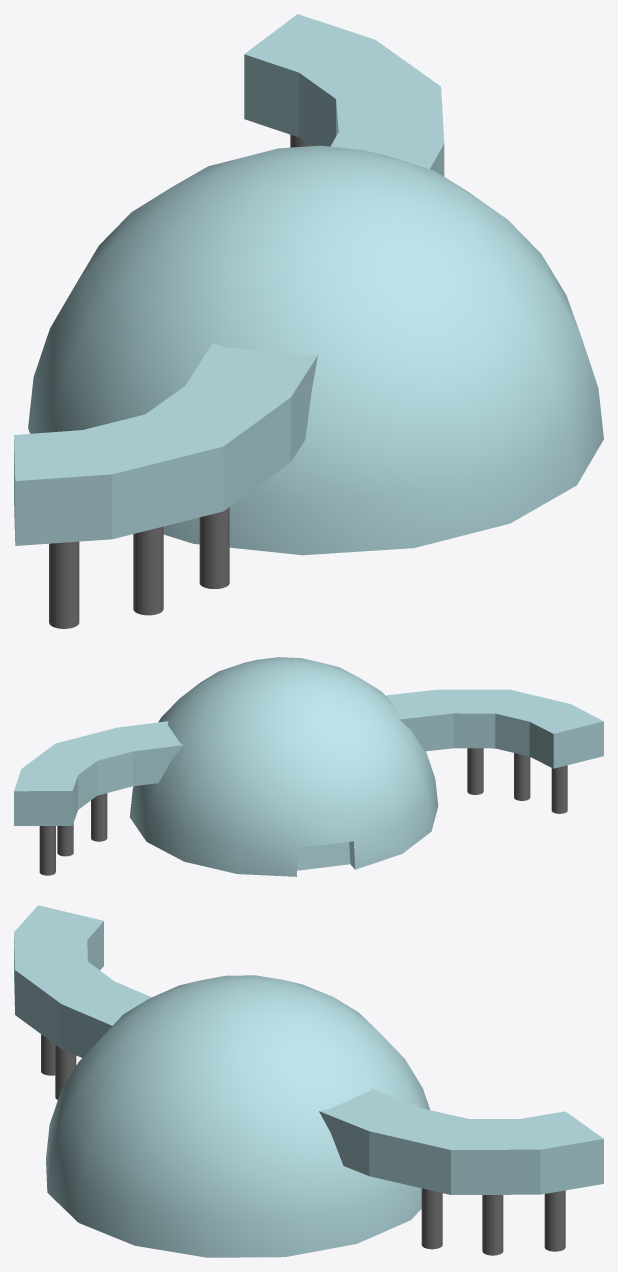
The model's file is WorldCenterLab.fbx.
3 renders of one model, top to bottom at view 1: azimuth 30°, elevation 25°; view 2: azimuth 150°, elevation 25°; view 3: azimuth 270°, elevation 25°, orthographic. The views are drawn at different scales.
Parts seen in each view (by area): view 1: LabSphere, LabWingR, LabWingL, Pillar.006, Pillar.005, Pillar.004; view 2: LabSphere, LabWingR, LabWingL, Pillar.001, Pillar.006, Pillar.004, Pillar.003, Pillar.005, Pillar.002; view 3: LabSphere, LabWingL, LabWingR, Pillar.002, Pillar.001, Pillar.003, Pillar.004, Pillar.005.
Boxes of the visible parts, bbox=[...] form: LabSphere: bbox=[28, 145, 603, 555]; LabWingR: bbox=[14, 343, 317, 545]; LabWingL: bbox=[244, 14, 444, 176]; Pillar.006: bbox=[49, 541, 79, 628]; Pillar.005: bbox=[133, 526, 163, 615]; Pillar.004: bbox=[199, 507, 229, 588]; LabSphere: bbox=[129, 657, 438, 876]; LabWingR: bbox=[385, 689, 603, 768]; LabWingL: bbox=[14, 721, 183, 825]; Pillar.001: bbox=[39, 826, 55, 875]; Pillar.006: bbox=[551, 765, 567, 813]; Pillar.004: bbox=[467, 748, 483, 794]; Pillar.003: bbox=[91, 793, 107, 841]; Pillar.005: bbox=[514, 753, 530, 800]; Pillar.002: bbox=[57, 823, 73, 856]; LabSphere: bbox=[46, 975, 429, 1257]; LabWingL: bbox=[319, 1088, 603, 1194]; LabWingR: bbox=[14, 905, 151, 1057]; Pillar.002: bbox=[482, 1195, 503, 1255]; Pillar.001: bbox=[544, 1190, 565, 1251]; Pillar.003: bbox=[421, 1188, 442, 1249]; Pillar.004: bbox=[55, 1045, 76, 1099]; Pillar.005: bbox=[41, 1034, 55, 1075].
Bounding box in the file's own units: 4474 × 1560 × 4556.
